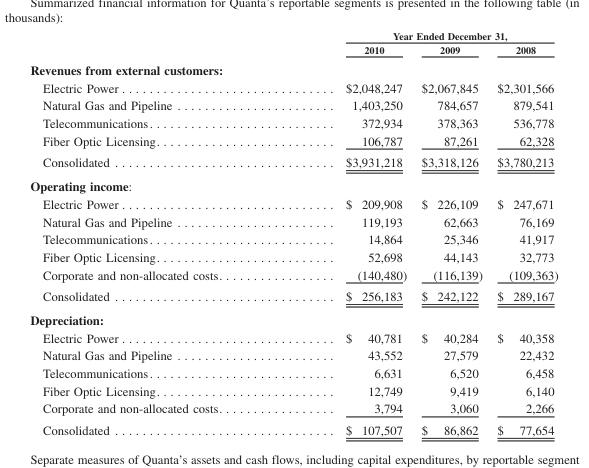table: (29, 29, 557, 436)
table column: (29, 29, 283, 436), (283, 29, 413, 436), (413, 29, 489, 436), (489, 29, 557, 436)
table column header: (29, 29, 557, 58)
table projected row header: (29, 173, 557, 194), (29, 307, 557, 328), (29, 58, 557, 78)
table row: (29, 151, 557, 173), (29, 285, 557, 307), (29, 173, 557, 194), (29, 307, 557, 328), (29, 58, 557, 78), (29, 131, 557, 151), (29, 265, 557, 285), (29, 399, 557, 418), (29, 78, 557, 96), (29, 113, 557, 131), (29, 194, 557, 212), (29, 212, 557, 230), (29, 247, 557, 265), (29, 328, 557, 346), (29, 363, 557, 381), (29, 381, 557, 399), (29, 418, 557, 436), (29, 41, 557, 58), (29, 96, 557, 113), (29, 230, 557, 247), (29, 346, 557, 363), (29, 29, 557, 41)
table spanning cell: (283, 29, 557, 41)
